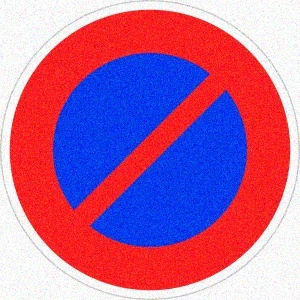Prohibition_sign: (1, 1, 299, 297)
